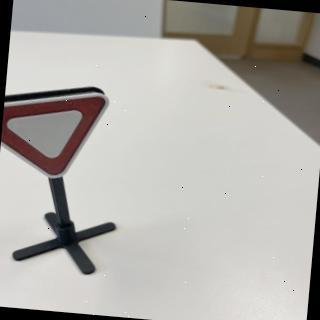duck_specialty: (1, 81, 117, 183)
sign_yield: (1, 81, 117, 185)
